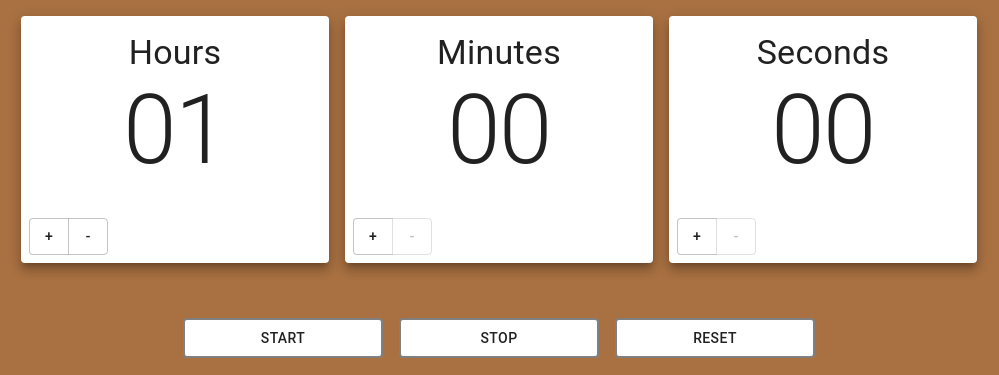
Test: Timer component renders › should increase time on minutes plus click
Click the button "+" below "Minutes".
click(373, 237)  # box [353,218,393,255]
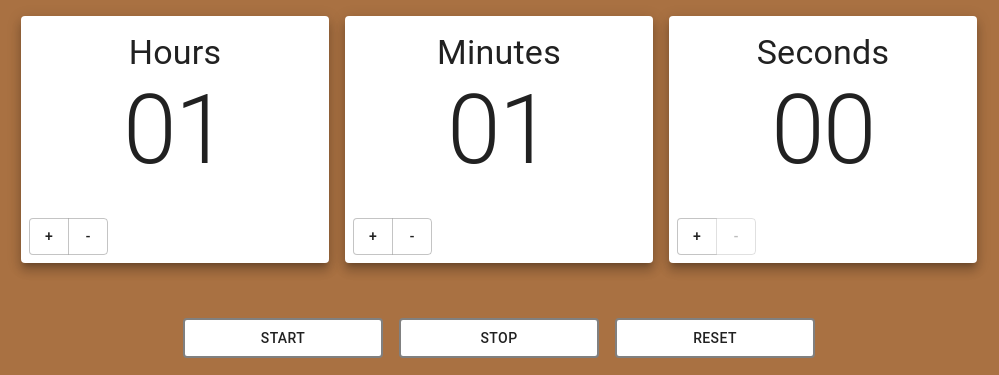
Result: the heading with id "minutes" reads "01" at [447,74,551,186]
